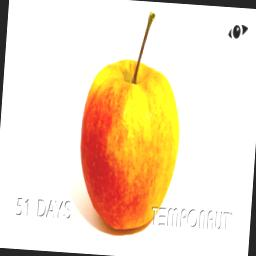Apple Ripe: (73, 0, 189, 235)
